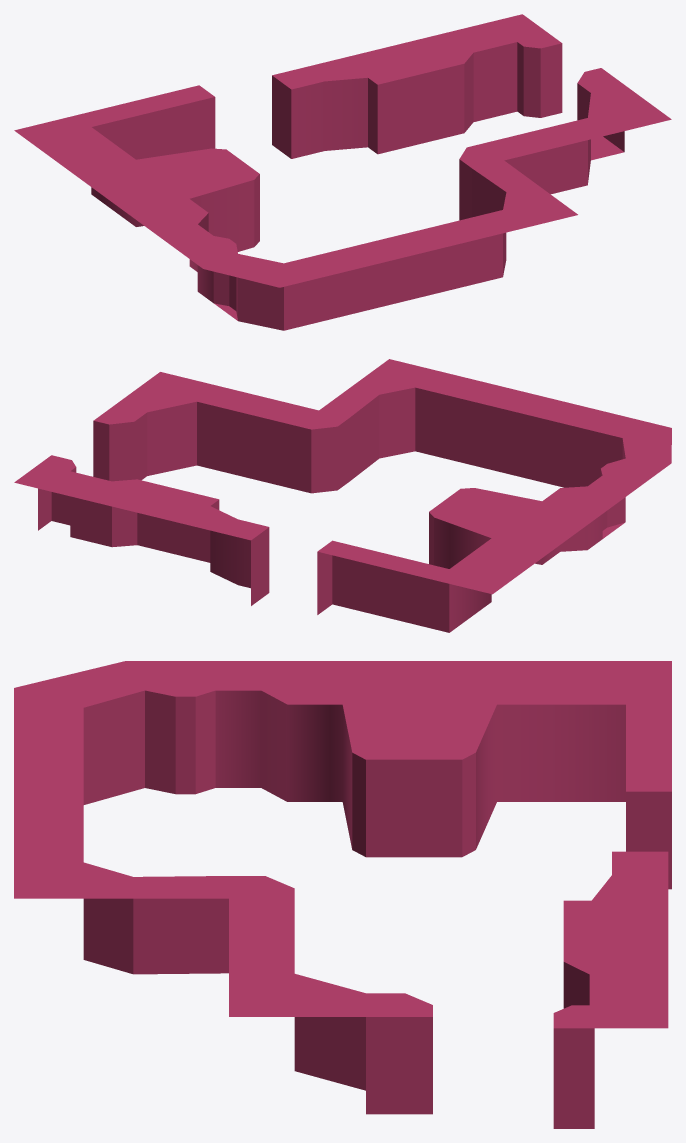
The model's file is CenterBot_Colliders.fbx.
3 views of the same model, one above another, from view 1: azimuth 30°, elevation 25°; view 2: azimuth 150°, elevation 25°; view 3: azimuth 270°, elevation 25° (orthographic). The views are drawn at different scales.
Parts seen in each view (by area): view 1: CenterBot_Colliders; view 2: CenterBot_Colliders; view 3: CenterBot_Colliders.
Part boxes in pixels (x1,y1,x2,y2): CenterBot_Colliders: (14, 14, 671, 330); CenterBot_Colliders: (14, 359, 671, 632); CenterBot_Colliders: (14, 661, 671, 1128).
Bounding box in the file's own units: 1664 × 239 × 1294.
